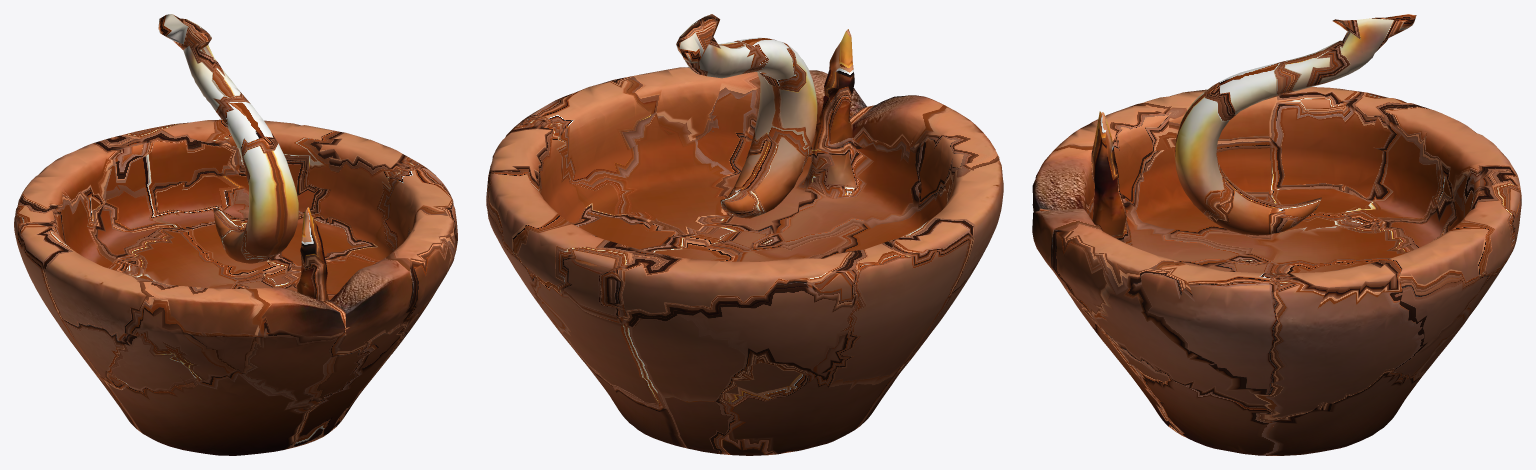
Rendered from lamp.glb.
3 views of the same model, side by side, from view 1: azimuth 30°, elevation 25°; view 2: azimuth 150°, elevation 25°; view 3: azimuth 270°, elevation 25° (orthographic). The views are drawn at different scales.
Visible parts, largest first — view 1: tripo_node_7c6b4b98-8f6a-4bb2-89fd-6478e1d854ad; view 2: tripo_node_7c6b4b98-8f6a-4bb2-89fd-6478e1d854ad; view 3: tripo_node_7c6b4b98-8f6a-4bb2-89fd-6478e1d854ad.
Part boxes in pixels (x1=…): tripo_node_7c6b4b98-8f6a-4bb2-89fd-6478e1d854ad: x1=14, y1=14, x2=457, y2=455; tripo_node_7c6b4b98-8f6a-4bb2-89fd-6478e1d854ad: x1=486, y1=14, x2=1003, y2=455; tripo_node_7c6b4b98-8f6a-4bb2-89fd-6478e1d854ad: x1=1032, y1=14, x2=1521, y2=455.
Size of the model in its own units: 0.9789 by 0.8587 by 0.9739.
Materials: 1 (1 with a texture image).
